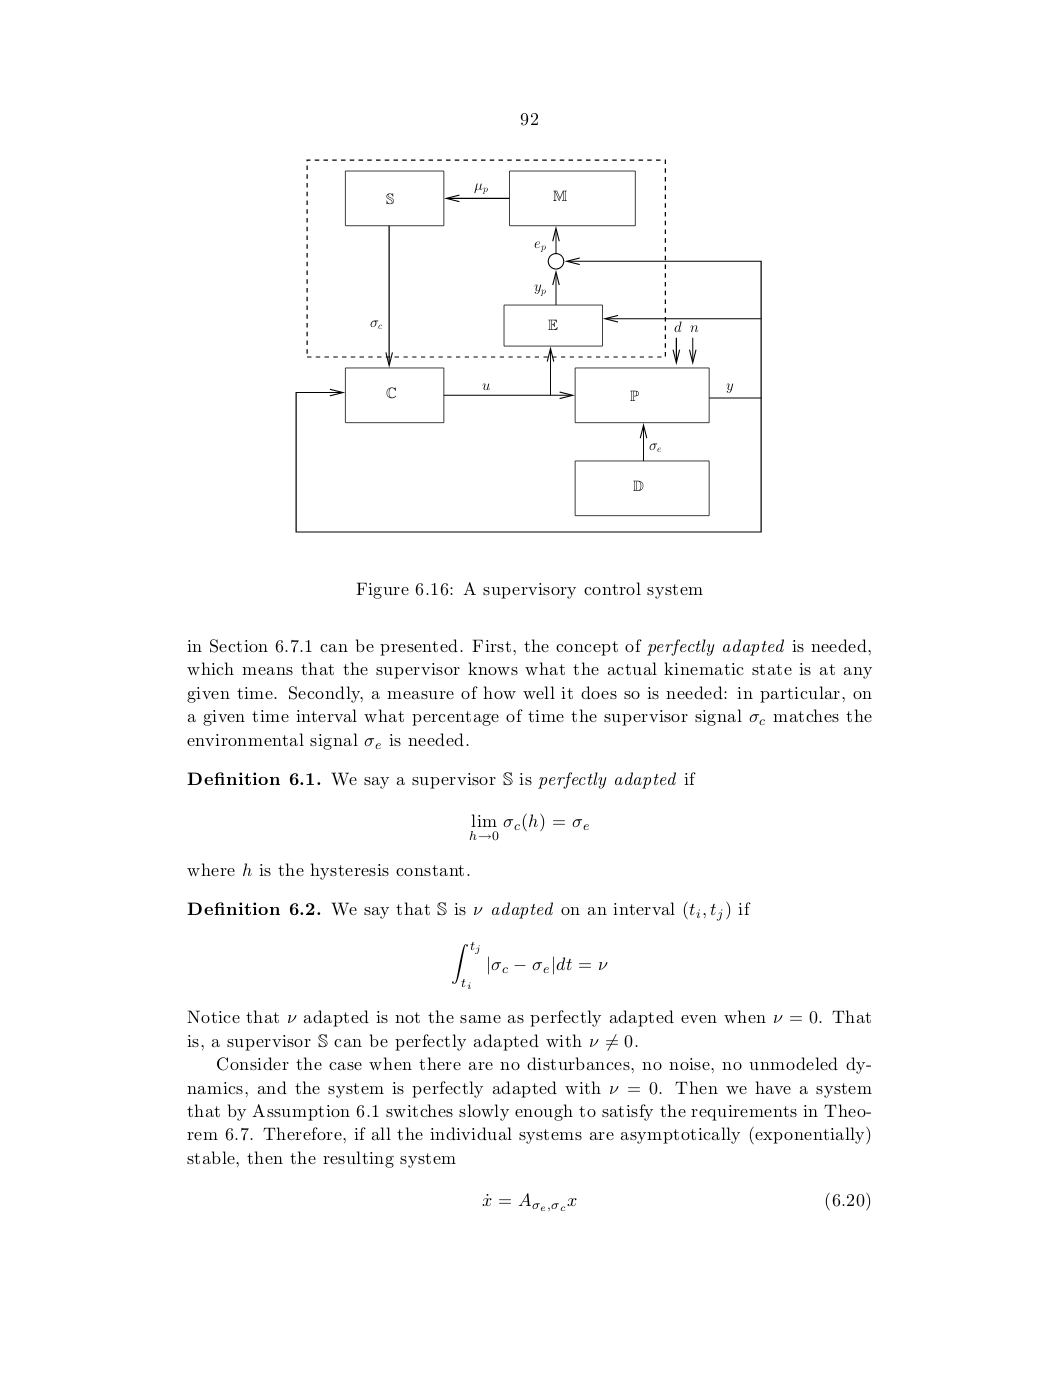figure: (295, 158, 761, 533)
formula: (481, 1191, 870, 1213), (452, 941, 607, 989), (469, 812, 588, 841)
